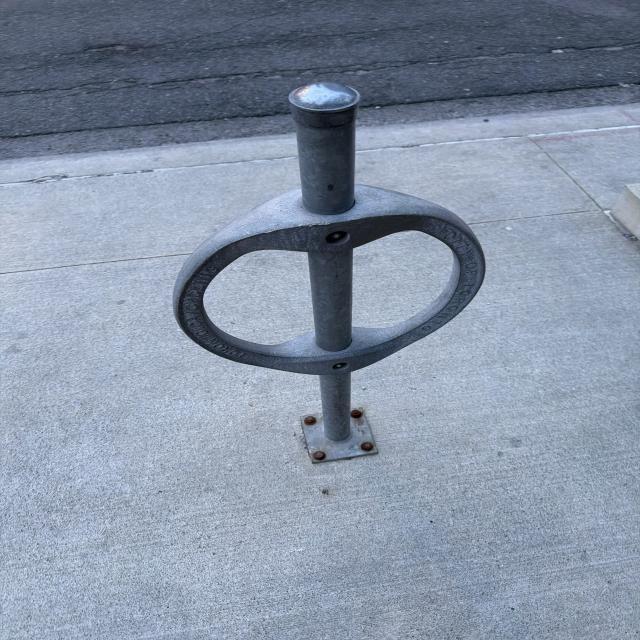Bicycle Rack: (172, 82, 487, 471)
